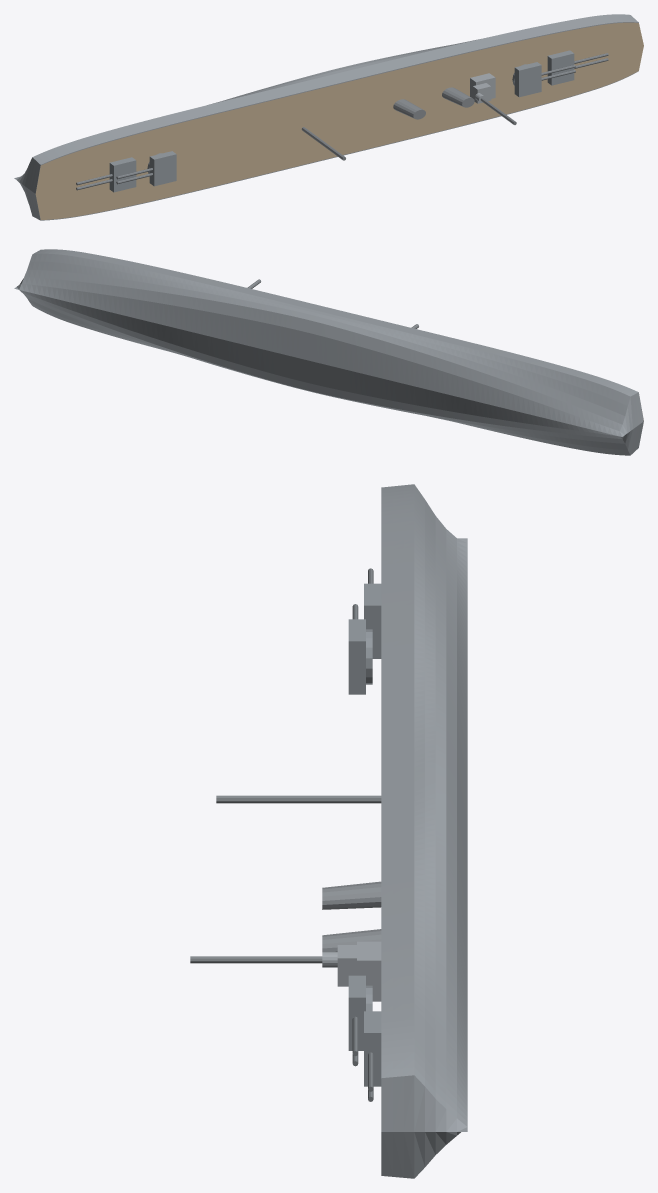
The picture shows the model from 3 angles, top to bottom: view 1: azimuth 30°, elevation 25°; view 2: azimuth 150°, elevation 25°; view 3: azimuth 270°, elevation 25°; orthographic projection. The views are drawn at different scales.
Parts seen in each view (by area): view 1: B62; view 2: B62; view 3: B62.
Boxes of the visible parts, x1=… form: B62: x1=14, y1=14, x2=643, y2=220; B62: x1=14, y1=249, x2=643, y2=455; B62: x1=190, y1=484, x2=467, y2=1178.
Size of the model in its own units: 251 by 30.83 by 49.62.
